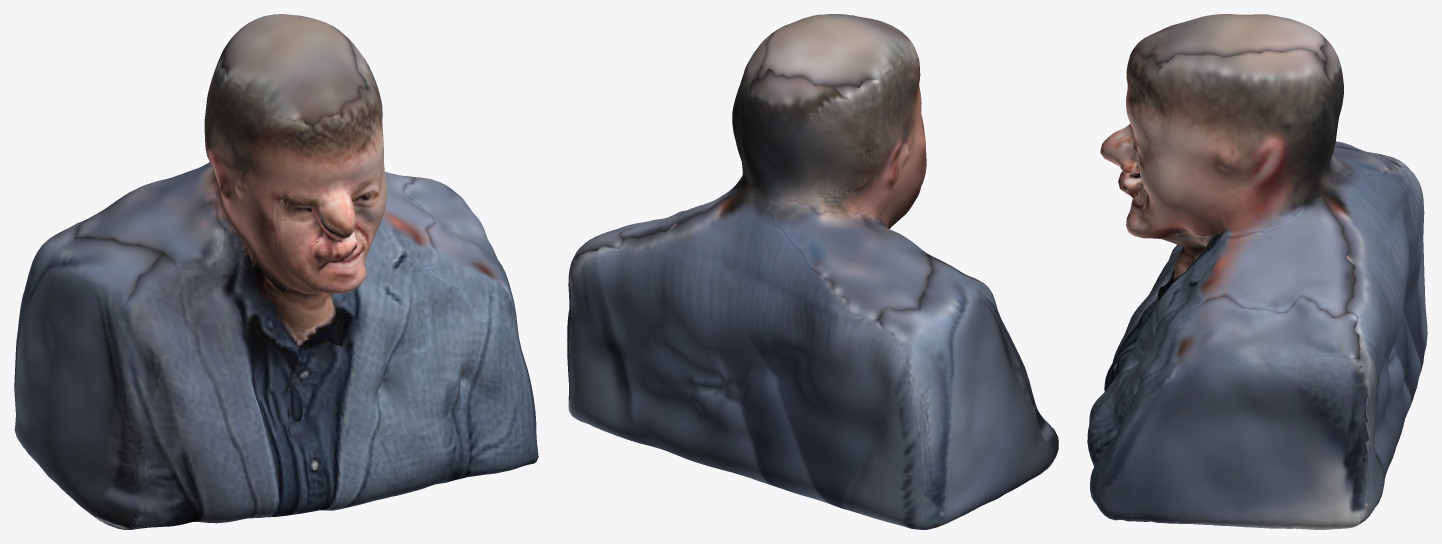
The picture shows the model from 3 angles, left to right: view 1: azimuth 30°, elevation 25°; view 2: azimuth 150°, elevation 25°; view 3: azimuth 270°, elevation 25°; orthographic projection. The views are drawn at different scales.
Visible parts, largest first — view 1: model.obj; view 2: model.obj; view 3: model.obj.
Boxes of the visible parts, left/top/right/bottom form: model.obj: left=14, top=14, right=538, bottom=529; model.obj: left=567, top=14, right=1058, bottom=529; model.obj: left=1087, top=14, right=1427, bottom=529.
Size of the model in its own units: 105 by 97.75 by 71.58.
Materials: 1 (1 with a texture image).
